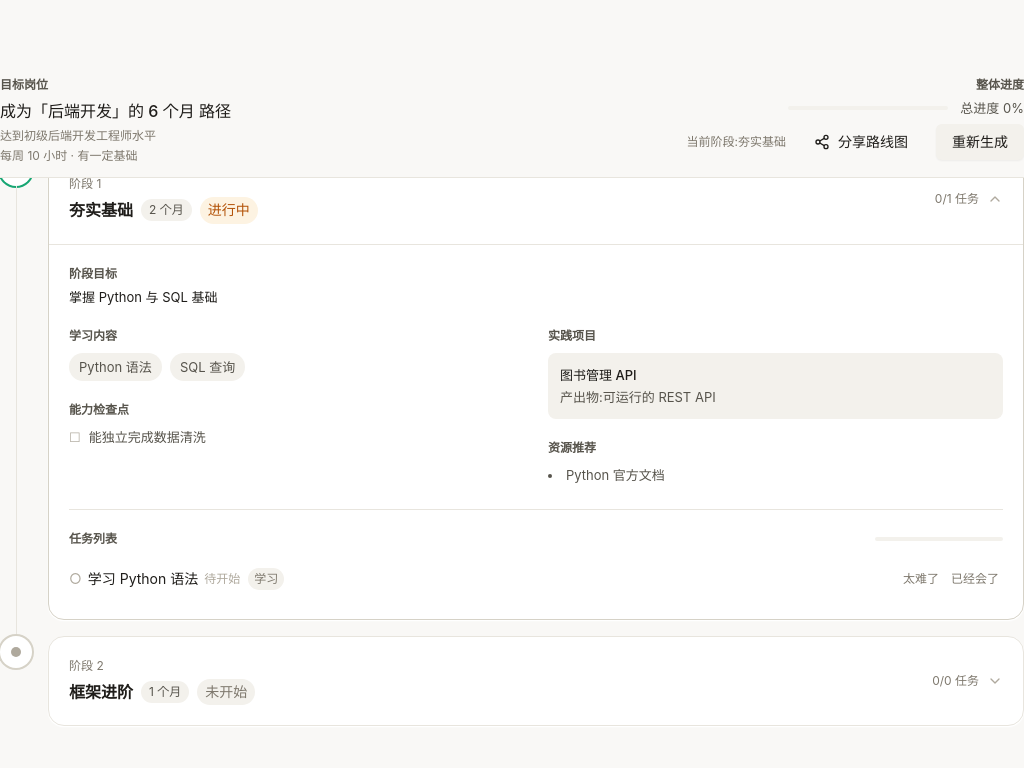
NavigatorHub 状态机 › 分享路线图(6.8):概览带按钮打开分享对话框,卡片数据与时间线同源
Step 1. Click the button "分享路线图" → (861, 142), box [798, 124, 924, 160]
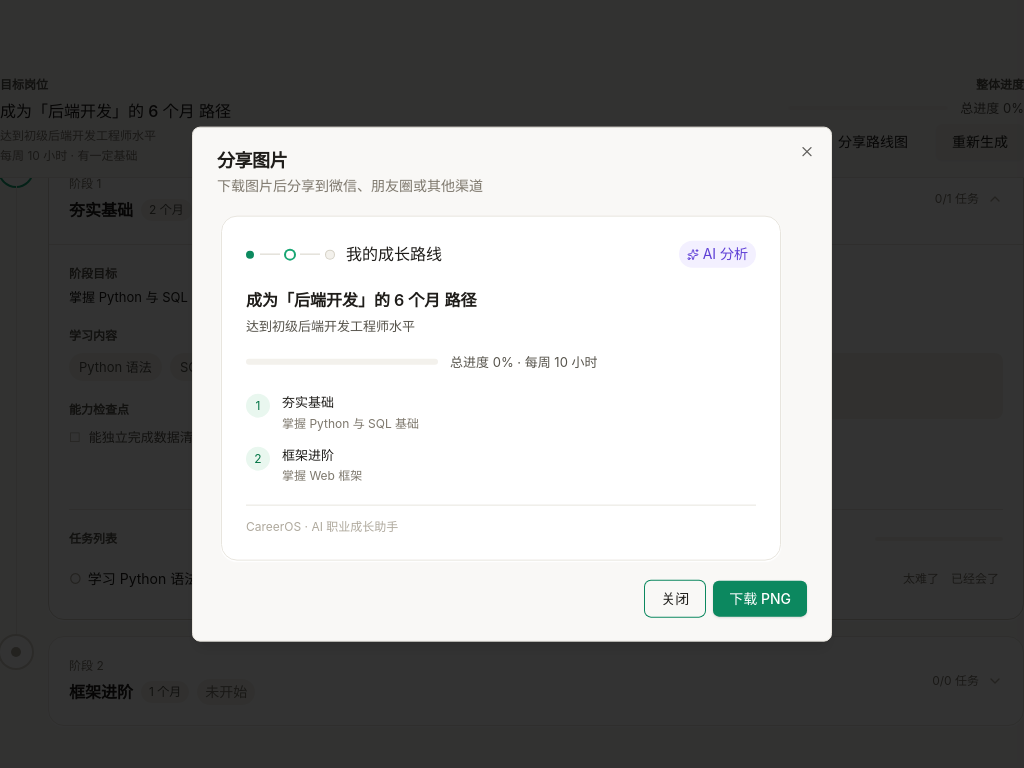
Expected: the heading "分享图片" is shown, [217, 150, 287, 171]
Expected: the text "下载图片后分享到微信、朋友圈或其他渠道" is shown, [217, 177, 483, 194]
Expected: the text "我的成长路线" is shown, [346, 241, 442, 268]
